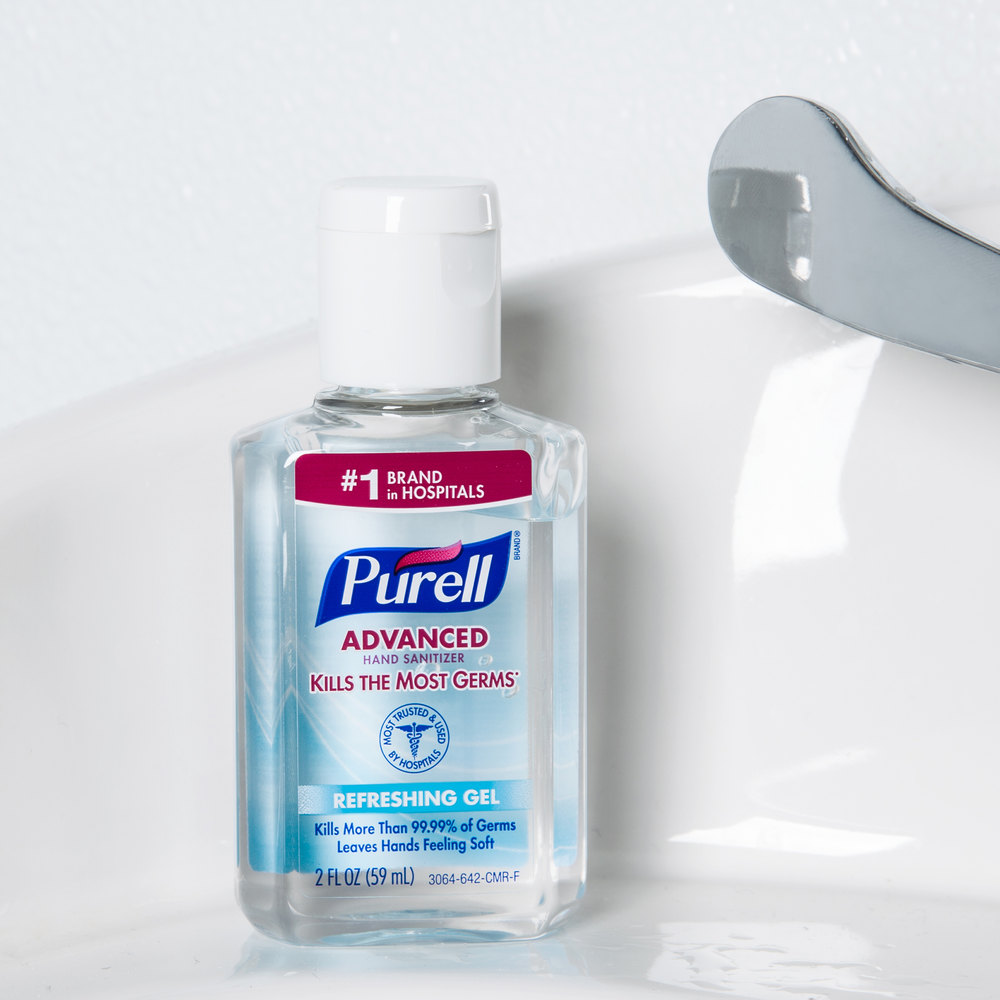Sanitizer: (224, 164, 599, 957)
